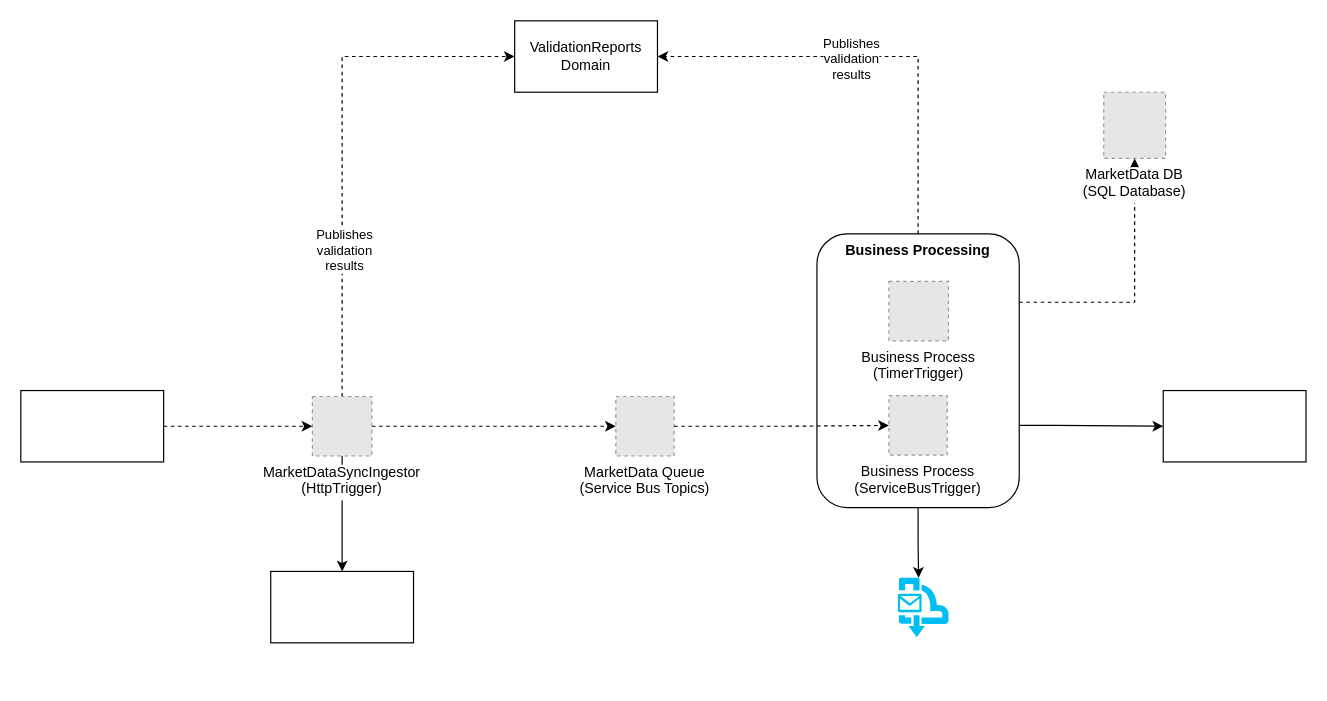
Image size: 1327x701. Some labels were removed from this diagram. Grey dashed boxes stand in for pictures. Here are the shapes that lost their labels. From the top down, the centre of each, then its label:
At [92,425]: "ApiGateway Domain".
At [1234,425]: "PostOffice Domain".
At [342,606]: "SharedResources Domain".
At [922,607]: "Integration event queue (ServiceBus Queue)".
